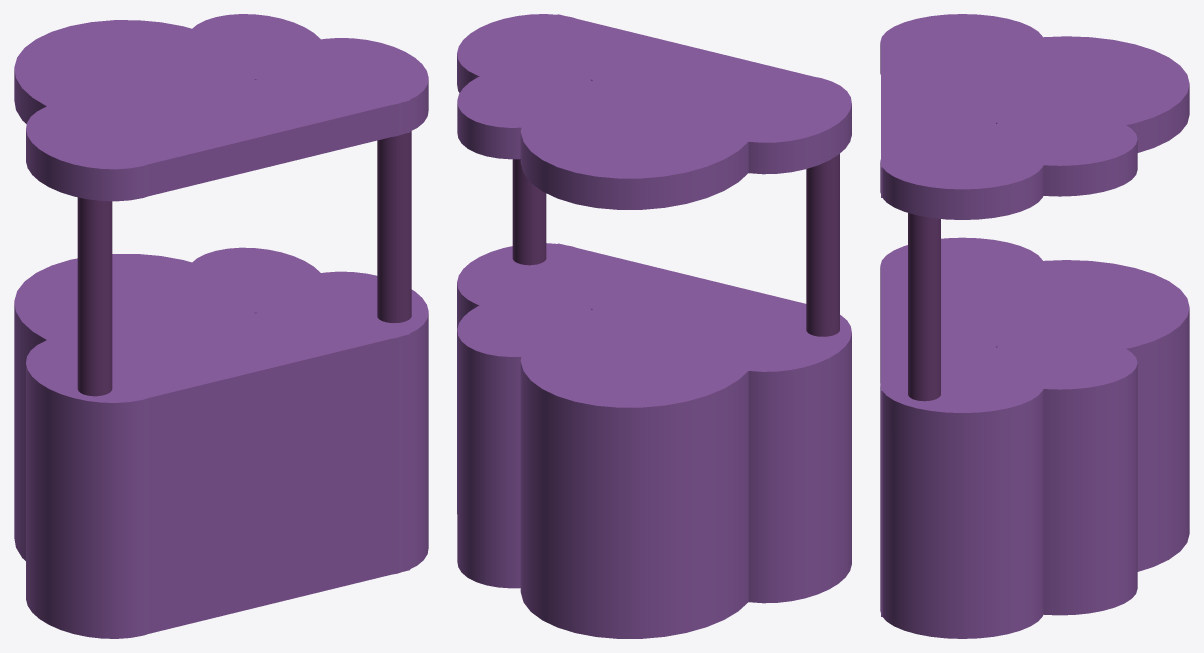
File: event.gltf
3 views of the same model, side by side, from view 1: azimuth 30°, elevation 25°; view 2: azimuth 150°, elevation 25°; view 3: azimuth 270°, elevation 25° (orthographic). The views are drawn at different scales.
Parts seen in each view (by area): view 1: Circle.002, Circle.001, Cylinder, Cylinder.001; view 2: Circle.002, Circle.001, Cylinder, Cylinder.001; view 3: Circle.002, Circle.001, Cylinder.001.
Part boxes in pixels (x1,y1,x2,y2): Circle.002: (14, 247, 428, 638); Circle.001: (14, 14, 428, 201); Cylinder: (77, 197, 112, 396); Cylinder.001: (377, 131, 411, 323); Circle.002: (457, 243, 851, 638); Circle.001: (457, 14, 851, 209); Cylinder: (806, 154, 839, 336); Cylinder.001: (512, 159, 546, 265); Circle.002: (880, 237, 1189, 638); Circle.001: (880, 14, 1189, 219); Cylinder.001: (908, 213, 940, 401).
Bounding box in the file's own units: 5.81 × 6.94 × 4.33.
1 material, 1 textured.
